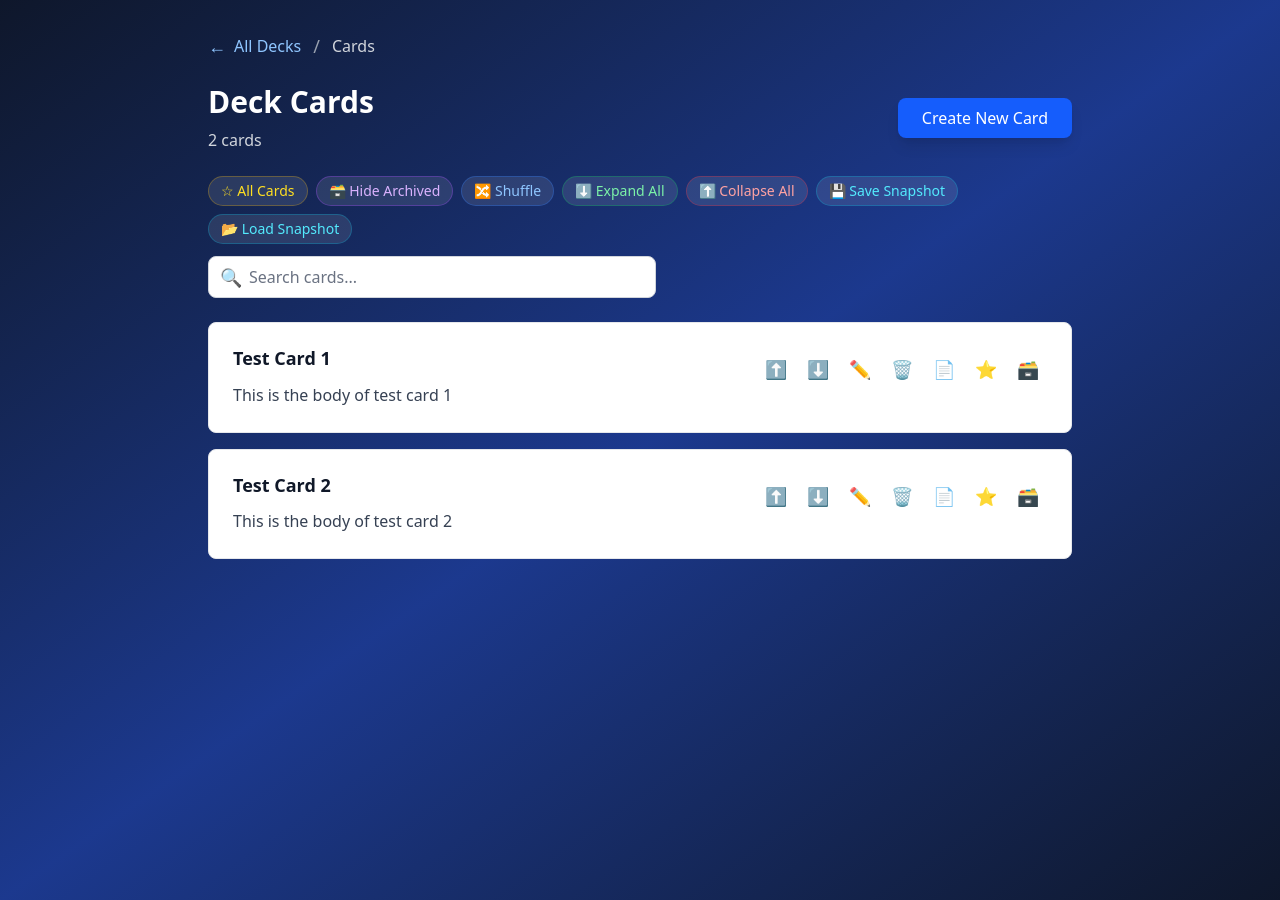
Scenario: CardScreen Component › Card Actions › should show edit modal when edit button is clicked
What coordinates should you click on to do the following:
click the button named "edit card-1"
I would click on:
 (860, 369)
Its box is [841, 347, 879, 391].
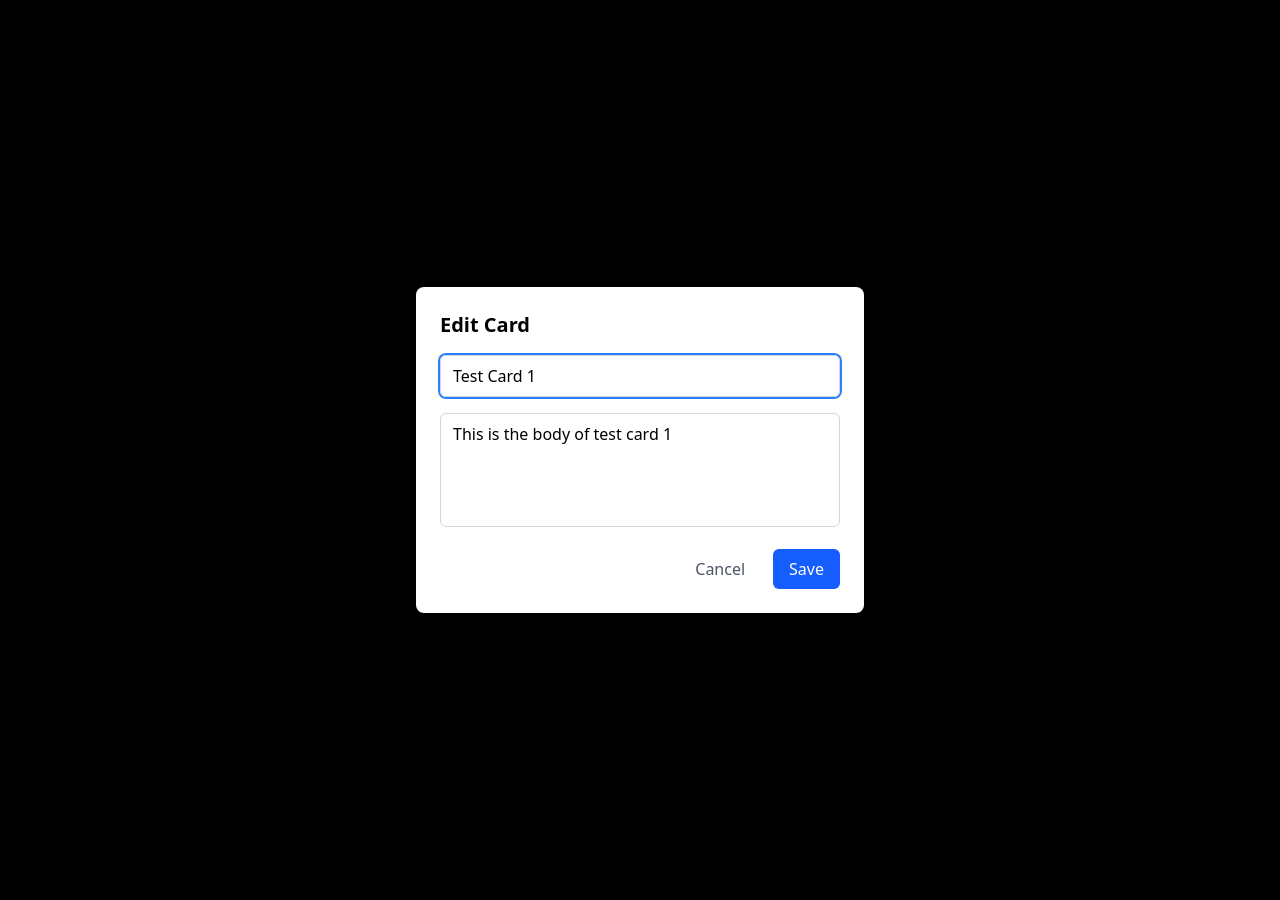
Result: the heading "Edit Card" is shown at [440, 311, 530, 338]
Result: the field showing "Test Card 1" is shown at [440, 355, 840, 397]
